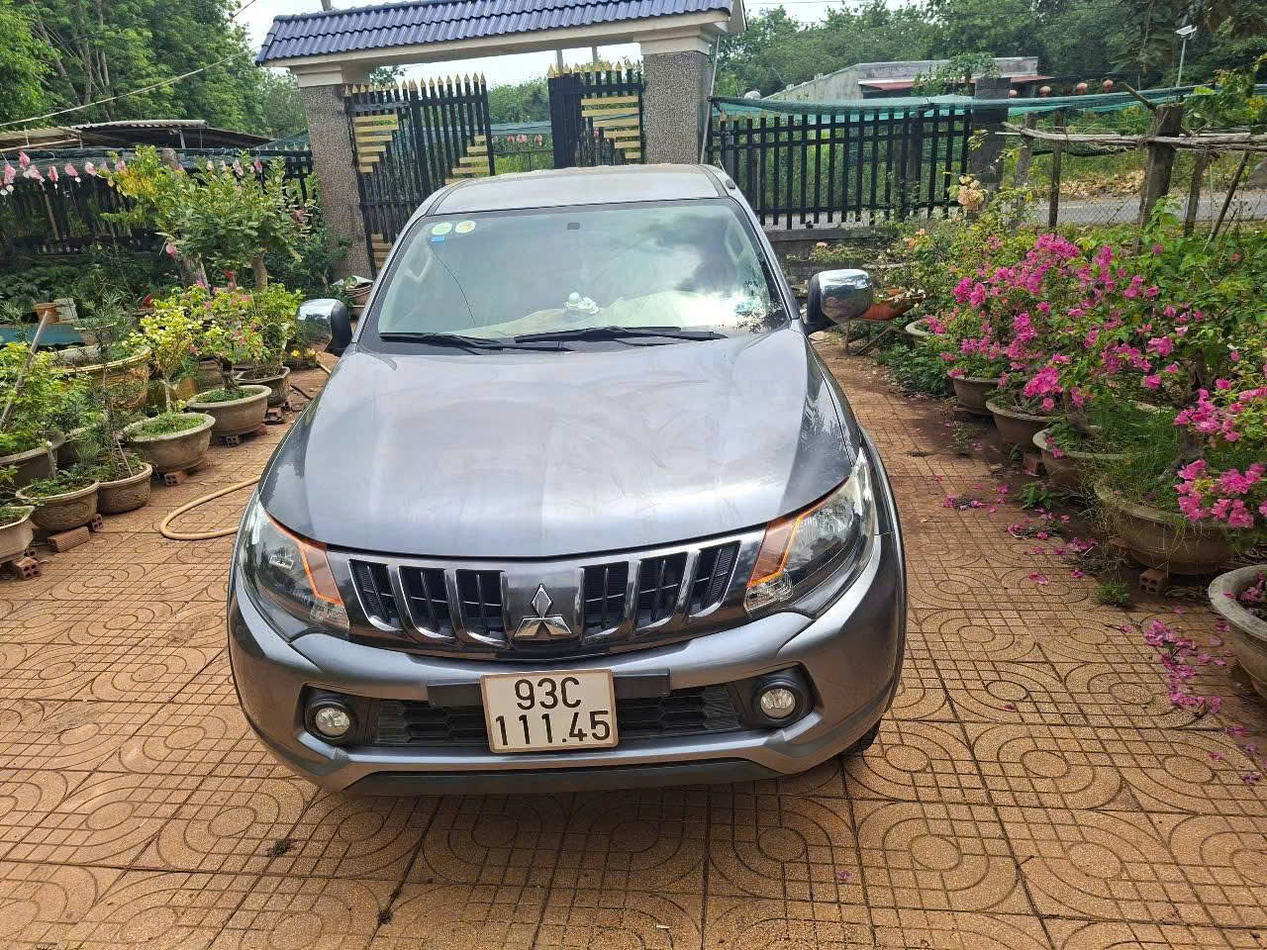Bien-so: (481, 662, 629, 760)
